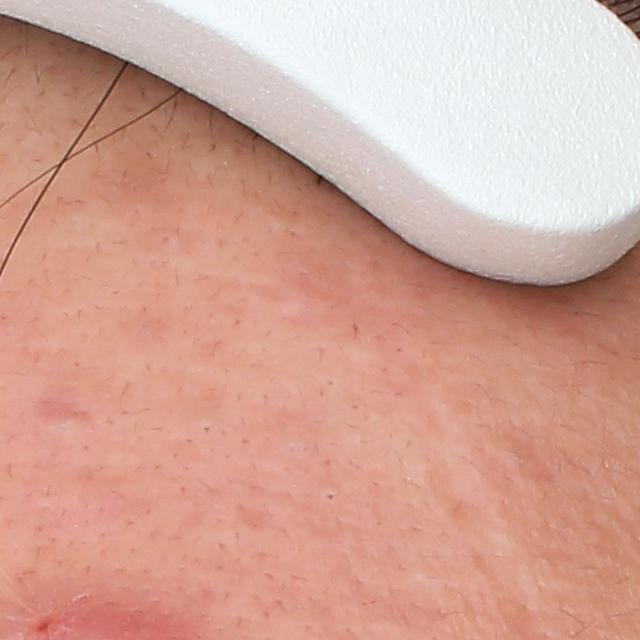comedo: (324, 489, 339, 502)
